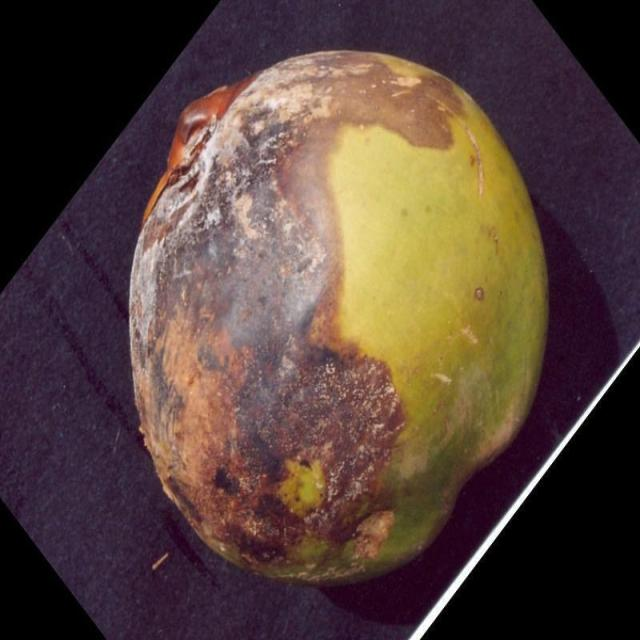damaged: (130, 51, 547, 582)
